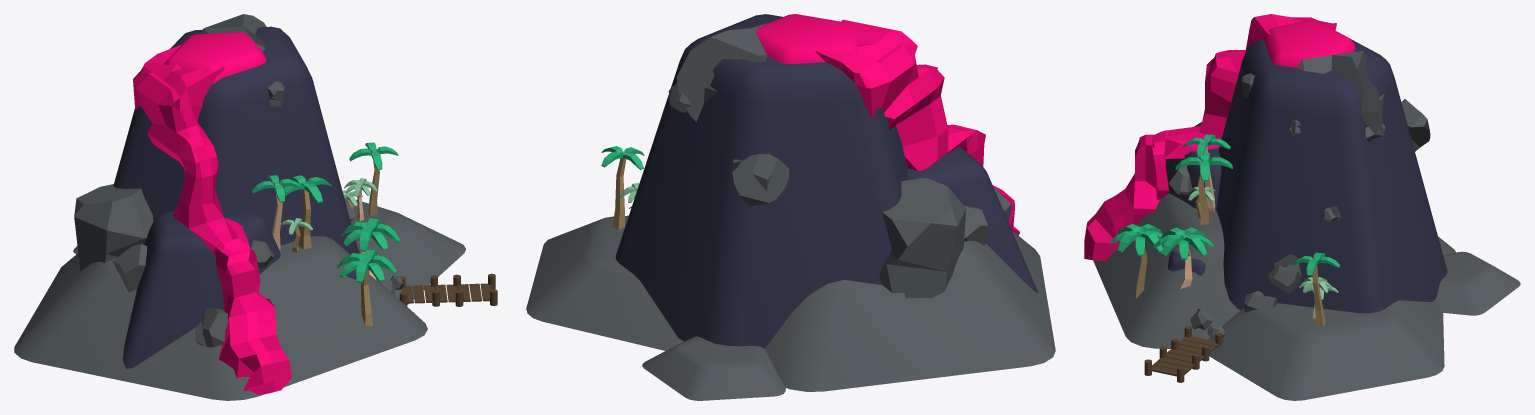
File: Island3.glb
3 views of the same model, side by side, from view 1: azimuth 30°, elevation 25°; view 2: azimuth 150°, elevation 25°; view 3: azimuth 270°, elevation 25° (orthographic). The views are drawn at different scales.
Parts seen in each view (by area): view 1: Mountain, Land, Lava.001, menhir_mini, Lava Top, Group 154, Group 20, menhir_mini.004, menhir_mini.008, menhir_mini.006, Group 30, Group 30.002 (+3 smaller); view 2: Mountain, Land, Lava.001, menhir_mini, Lava Top, menhir_mini.006, menhir_mini.010, menhir_mini.004, Group 28.002, Group 30.002; view 3: Mountain, Land, Lava.001, Lava Top, menhir_mini.006, Group 20, Group 154, menhir_mini.014, menhir_mini.010, Group 30, menhir_mini.009, menhir_mini.013 (+3 smaller).
Boxes of the visible parts, box(x1,y1,x2,y2) form: Mountain: box(113, 26, 358, 368); Land: box(14, 198, 465, 400); Lava.001: box(133, 44, 291, 395); menhir_mini: box(74, 184, 153, 271); Lava Top: box(165, 32, 266, 83); Group 154: box(337, 249, 396, 283); Group 20: box(340, 218, 399, 251); menhir_mini.004: box(113, 243, 147, 292); menhir_mini.008: box(195, 308, 228, 347); menhir_mini.006: box(201, 14, 266, 51); Group 30: box(283, 175, 331, 202); Group 30.002: box(349, 142, 398, 169); Mountain: box(615, 14, 1038, 348); Land: box(526, 215, 1055, 400); Lava.001: box(815, 19, 1019, 235); menhir_mini: box(879, 177, 966, 298); Lava Top: box(756, 14, 859, 63); menhir_mini.006: box(676, 23, 767, 121); menhir_mini.010: box(732, 152, 789, 207); menhir_mini.004: box(964, 205, 988, 245); Group 28.002: box(612, 151, 627, 229); Group 30.002: box(601, 146, 644, 169); Mountain: box(1166, 38, 1447, 313); Land: box(1093, 193, 1520, 400); Lava.001: box(1084, 14, 1336, 261); Lava Top: box(1263, 20, 1355, 69); menhir_mini.006: box(1289, 51, 1384, 135); Group 20: box(1154, 227, 1213, 259); Group 154: box(1110, 224, 1162, 255); menhir_mini.014: box(1268, 254, 1301, 293); menhir_mini.010: box(1401, 99, 1430, 151); Group 30: box(1175, 152, 1232, 181); menhir_mini.009: box(1244, 291, 1277, 312); menhir_mini.013: box(1169, 166, 1192, 194).
Size of the model in its own units: 23.88 by 13.24 by 20.43.
